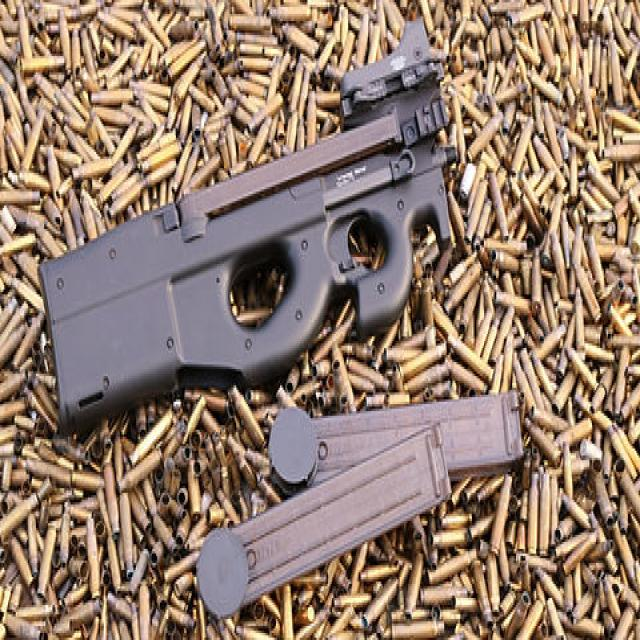Gun: (38, 4, 464, 428)
